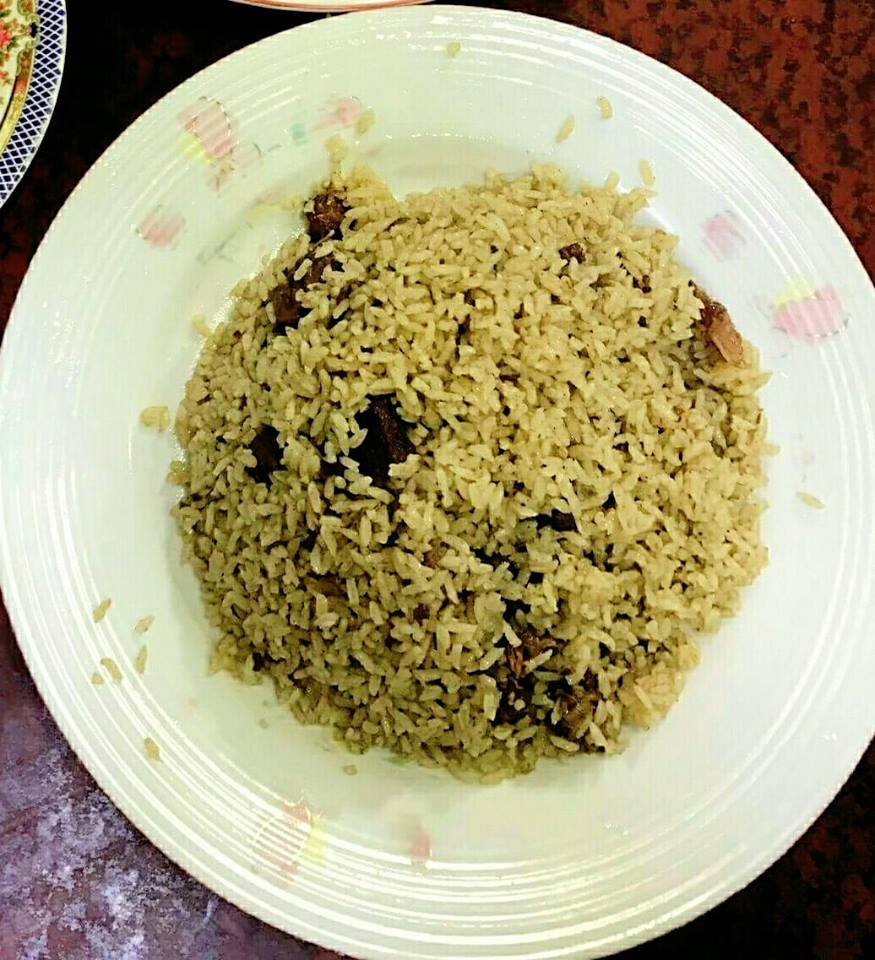tehari: (173, 161, 787, 783)
